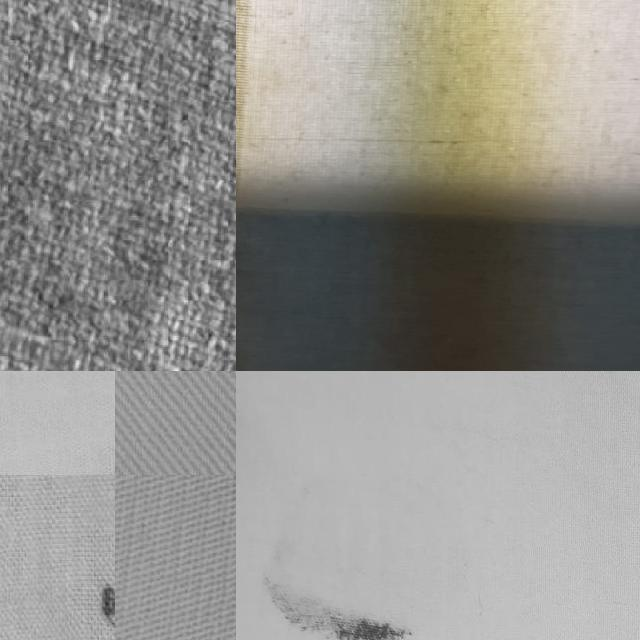Thread_other: (236, 371, 640, 640), (236, 546, 422, 640), (39, 503, 115, 640)
